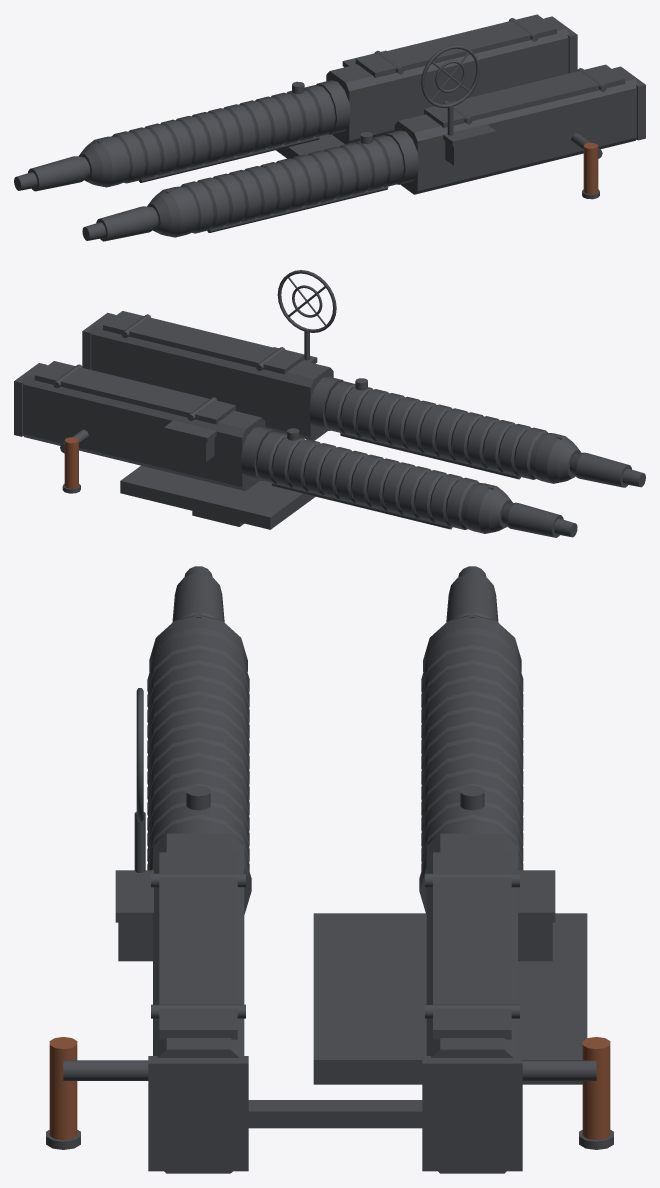
File: twin_vickers_50.obj
3 views of the same model, one above another, from view 1: azimuth 30°, elevation 25°; view 2: azimuth 150°, elevation 25°; view 3: azimuth 270°, elevation 25° (orthographic). The views are drawn at different scales.
Parts seen in each view (by area): view 1: barrel_0, turret_0, barrel_1; view 2: barrel_0, turret_0, barrel_1; view 3: barrel_0, turret_0, barrel_1.
Boxes of the visible parts, bbox=[...] form: barrel_0: bbox=[14, 14, 645, 241]; turret_0: bbox=[276, 45, 479, 158]; barrel_1: bbox=[583, 143, 598, 194]; barrel_0: bbox=[14, 311, 645, 537]; turret_0: bbox=[120, 270, 336, 529]; barrel_1: bbox=[64, 437, 78, 488]; barrel_0: bbox=[46, 566, 613, 1173]; turret_0: bbox=[134, 688, 587, 1084]; barrel_1: bbox=[49, 1037, 610, 1140].
Bounding box in the file's own units: 1.38 × 0.4435 × 0.622.
